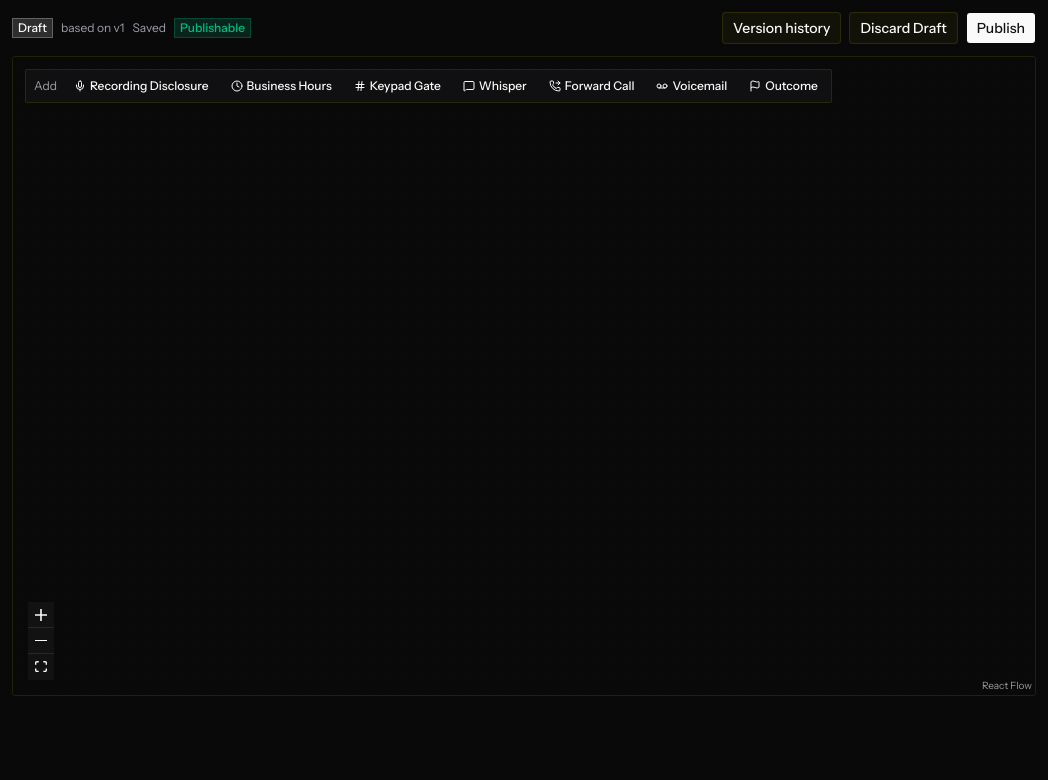
Test: WorkspaceFlowEditor › adds a Keypad Gate and shows its Prompt inspector field
The image size is (1048, 780).
Step 1. Click the button "Keypad Gate" → (397, 86), box [345, 74, 450, 98]
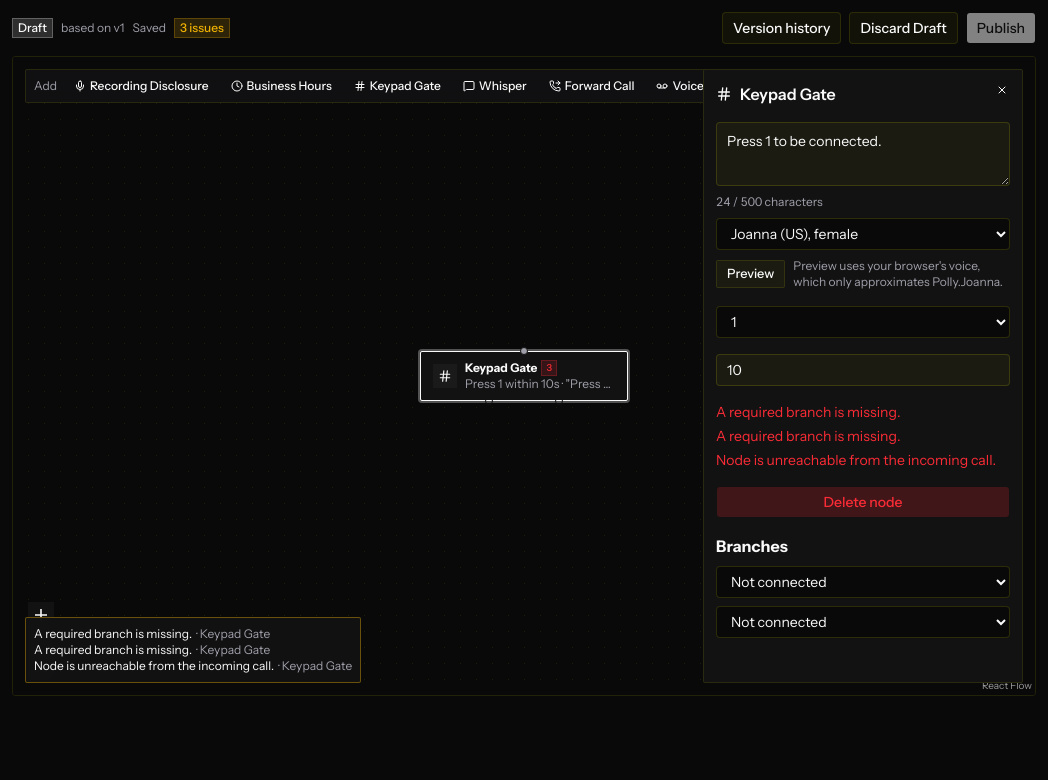
Result: the text box named "Prompt" is shown at [716, 122, 1010, 186]
